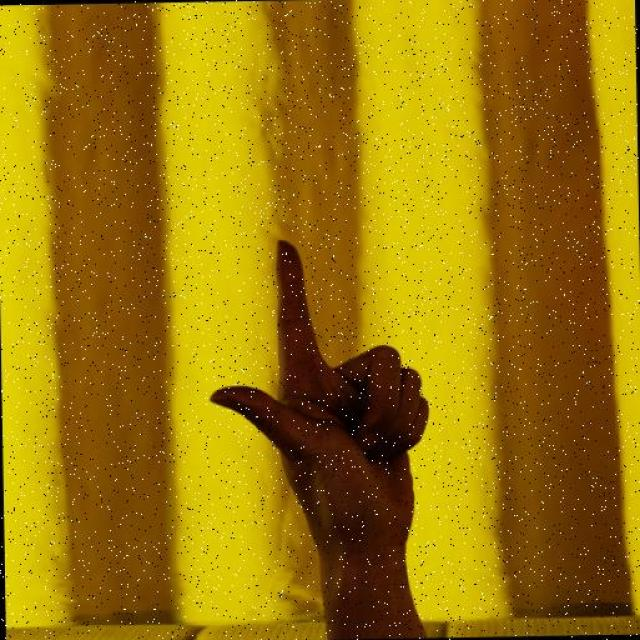L: (190, 213, 455, 634)
